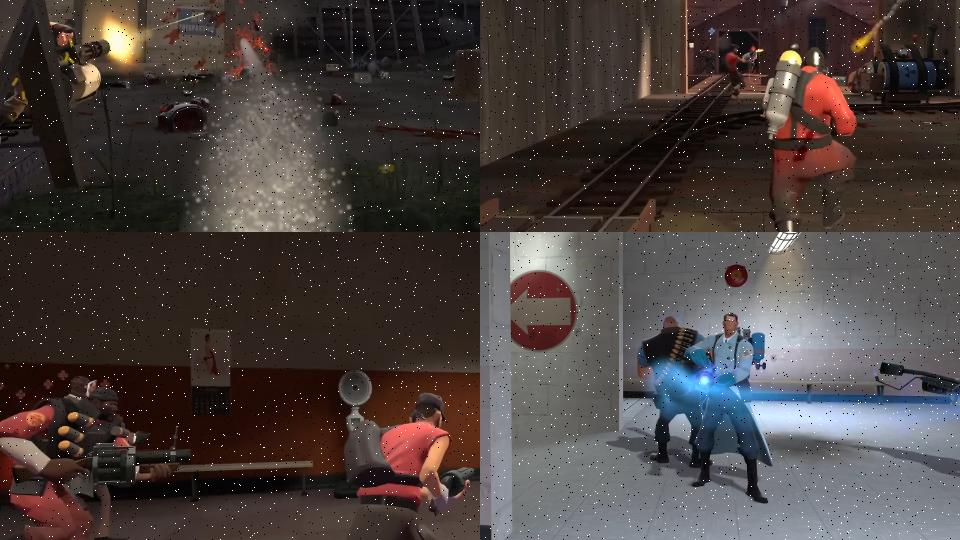Enemy: (0, 385, 192, 540), (289, 392, 475, 540), (753, 41, 860, 232), (686, 305, 779, 494), (0, 0, 111, 148), (874, 328, 960, 484), (635, 313, 705, 467), (721, 44, 760, 108), (698, 44, 718, 77)
